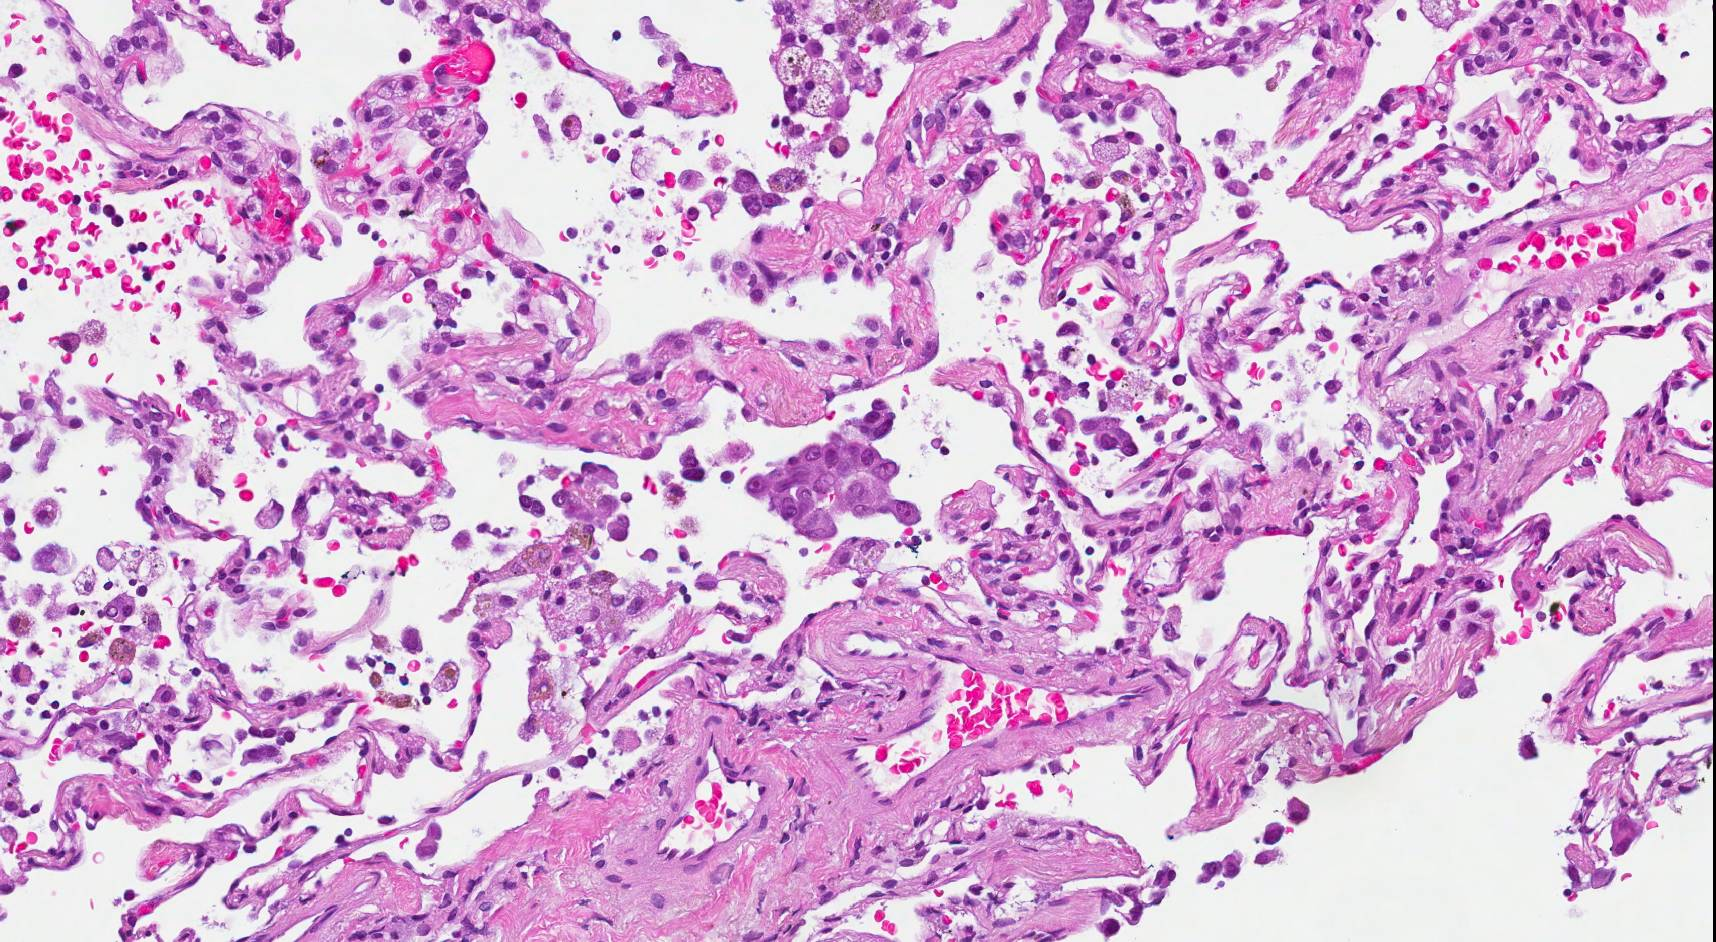stas: (742, 394, 925, 546), (512, 456, 633, 546), (727, 165, 806, 221), (1079, 404, 1146, 462), (409, 822, 452, 863)
